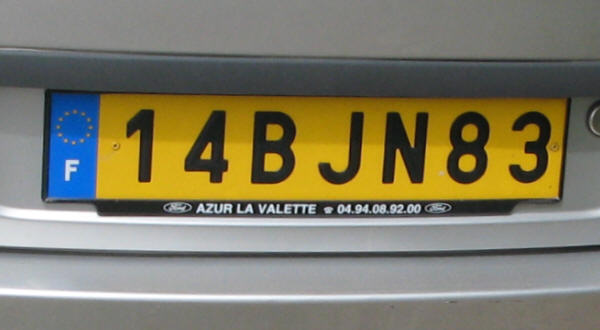license_plate: (42, 93, 571, 205)
